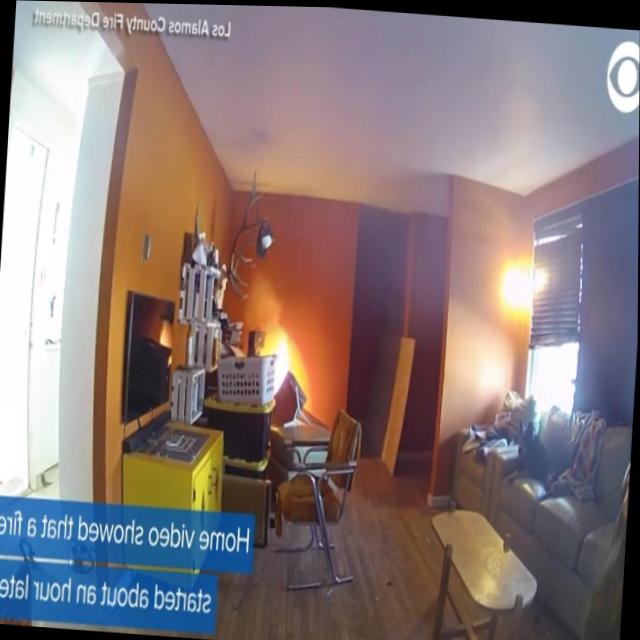fire: (255, 322, 293, 399)
